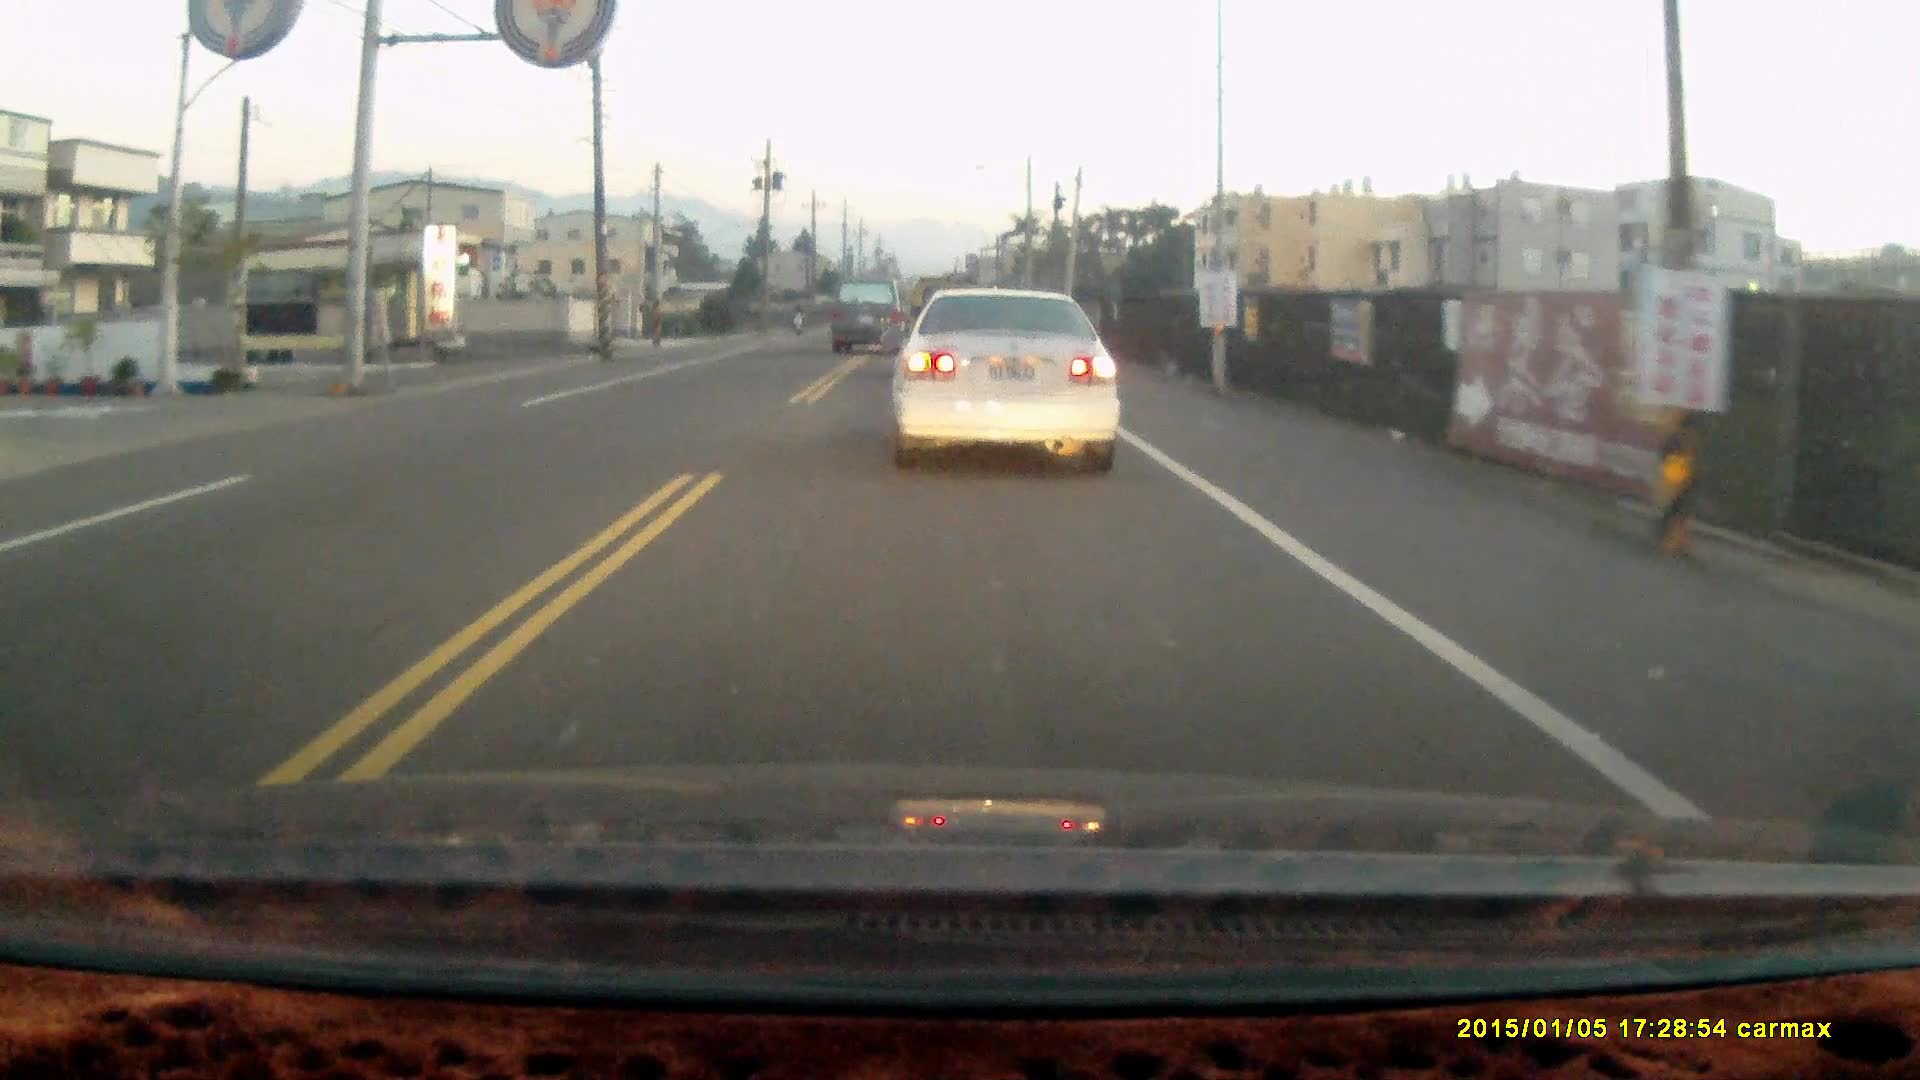rider: (785, 301, 805, 339)
vehicle: (887, 292, 1131, 483), (830, 278, 909, 361)
